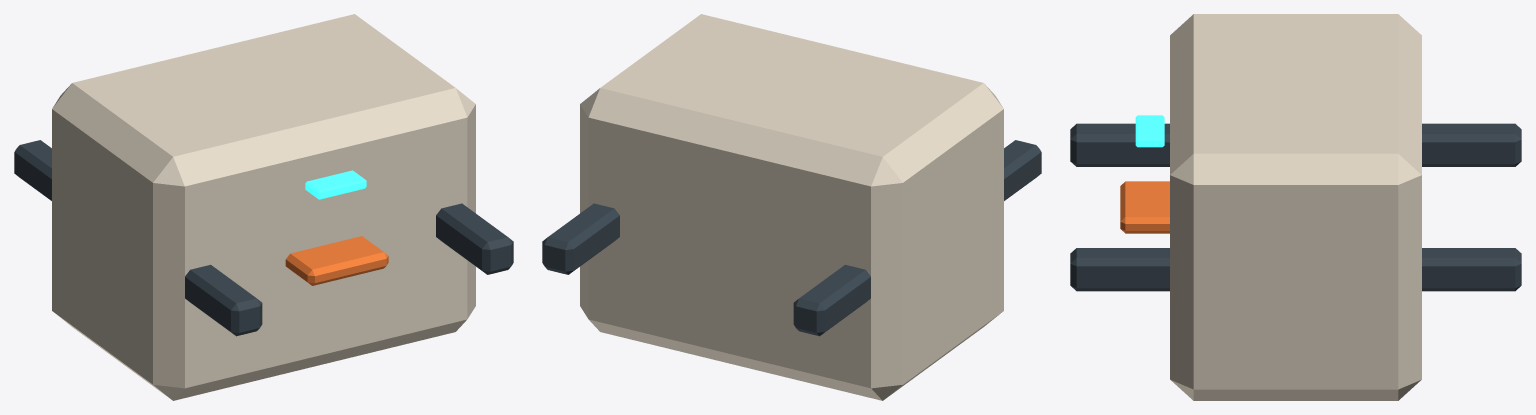
File: LP_CargoCrate_0p7m.fbx
3 renders of one model, left to right at view 1: azimuth 30°, elevation 25°; view 2: azimuth 150°, elevation 25°; view 3: azimuth 270°, elevation 25°, orthographic.
Visible parts, largest first — view 1: CrateBody, CrateCorner.002, CrateCorner, CrateLatch, CrateCorner.001, CrateStatus; view 2: CrateBody, CrateCorner.003, CrateCorner.001, CrateCorner; view 3: CrateBody, CrateCorner.001, CrateCorner.002, CrateCorner.003, CrateCorner, CrateLatch, CrateStatus.
Part boxes in pixels (<box>): CrateBody: <box>52,14,475,400</box>; CrateCorner.002: <box>436,203,513,274</box>; CrateCorner: <box>185,264,262,336</box>; CrateLatch: <box>285,236,388,285</box>; CrateCorner.001: <box>14,140,51,200</box>; CrateStatus: <box>305,170,366,199</box>; CrateBody: <box>580,14,1003,400</box>; CrateCorner.003: <box>542,203,619,274</box>; CrateCorner.001: <box>793,264,870,336</box>; CrateCorner: <box>1004,140,1041,200</box>; CrateBody: <box>1170,14,1421,400</box>; CrateCorner.001: <box>1422,123,1521,166</box>; CrateCorner.002: <box>1070,248,1169,291</box>; CrateCorner.003: <box>1422,248,1521,291</box>; CrateCorner: <box>1070,123,1169,166</box>; CrateLatch: <box>1120,181,1169,233</box>; CrateStatus: <box>1135,115,1164,147</box>.
Bounding box in the file's own units: 72 × 52 × 86.
